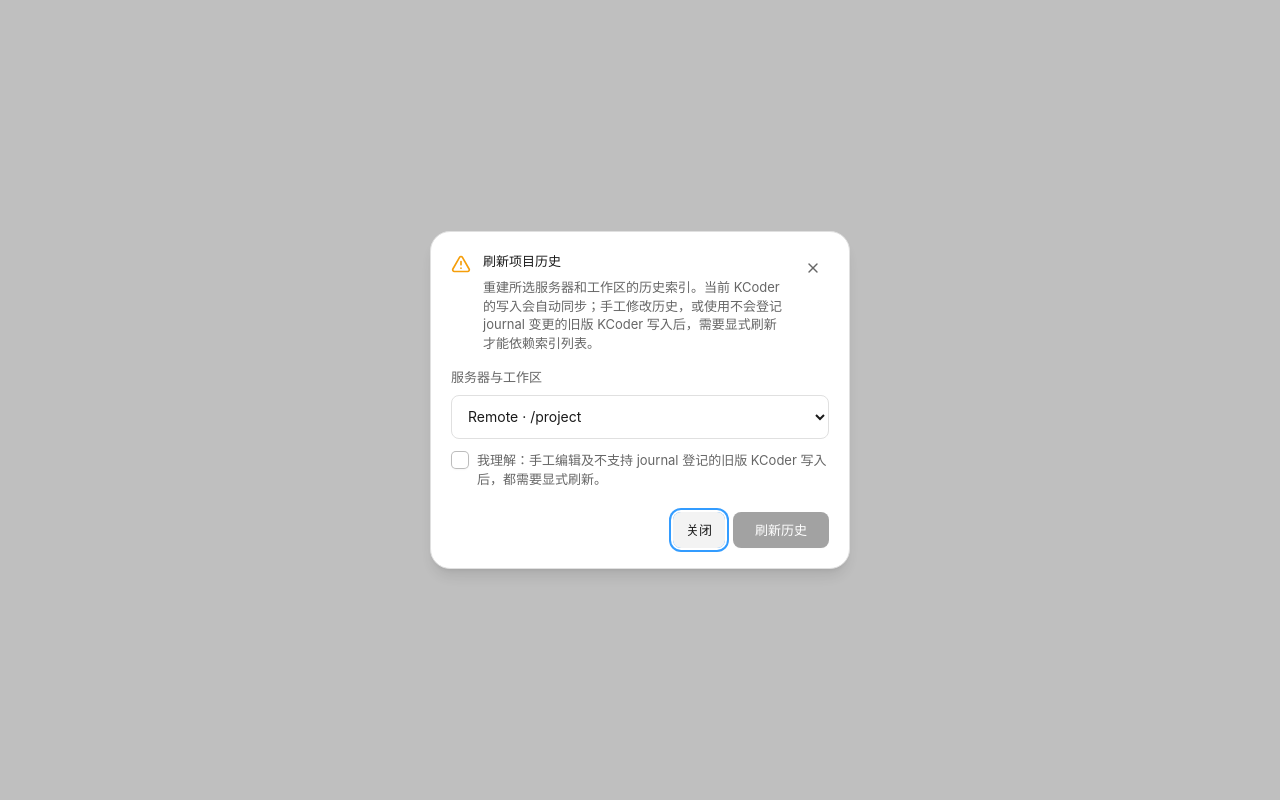
project history confirmation automatically progresses and reloads only after ready
Expected: the button with test id "project-history-refresh-dialog-confirm" is disabled, [733,512,829,548]
Click the checkbox with test id "history-refresh-acknowledge": click(460, 460) [451,451,469,469]
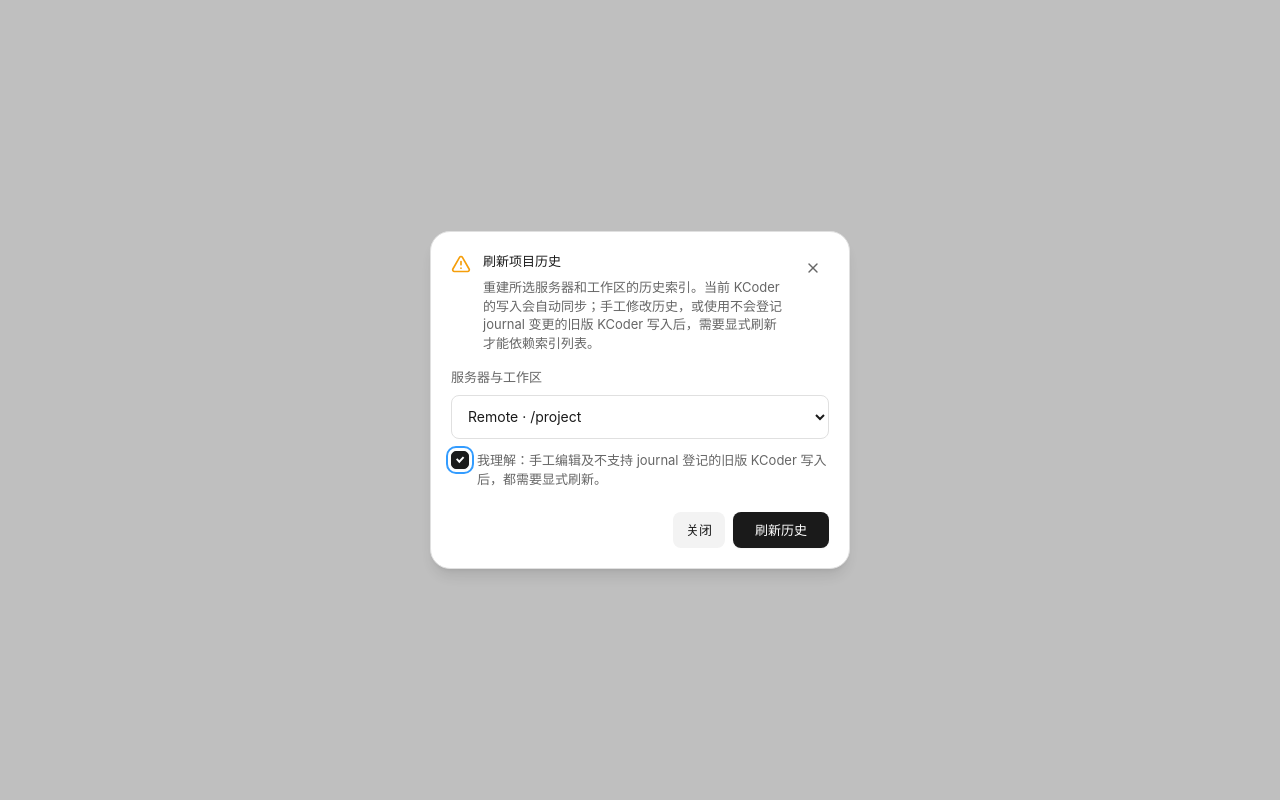
Click the button with test id "project-history-refresh-dialog-confirm": click(781, 530) [733,512,829,548]
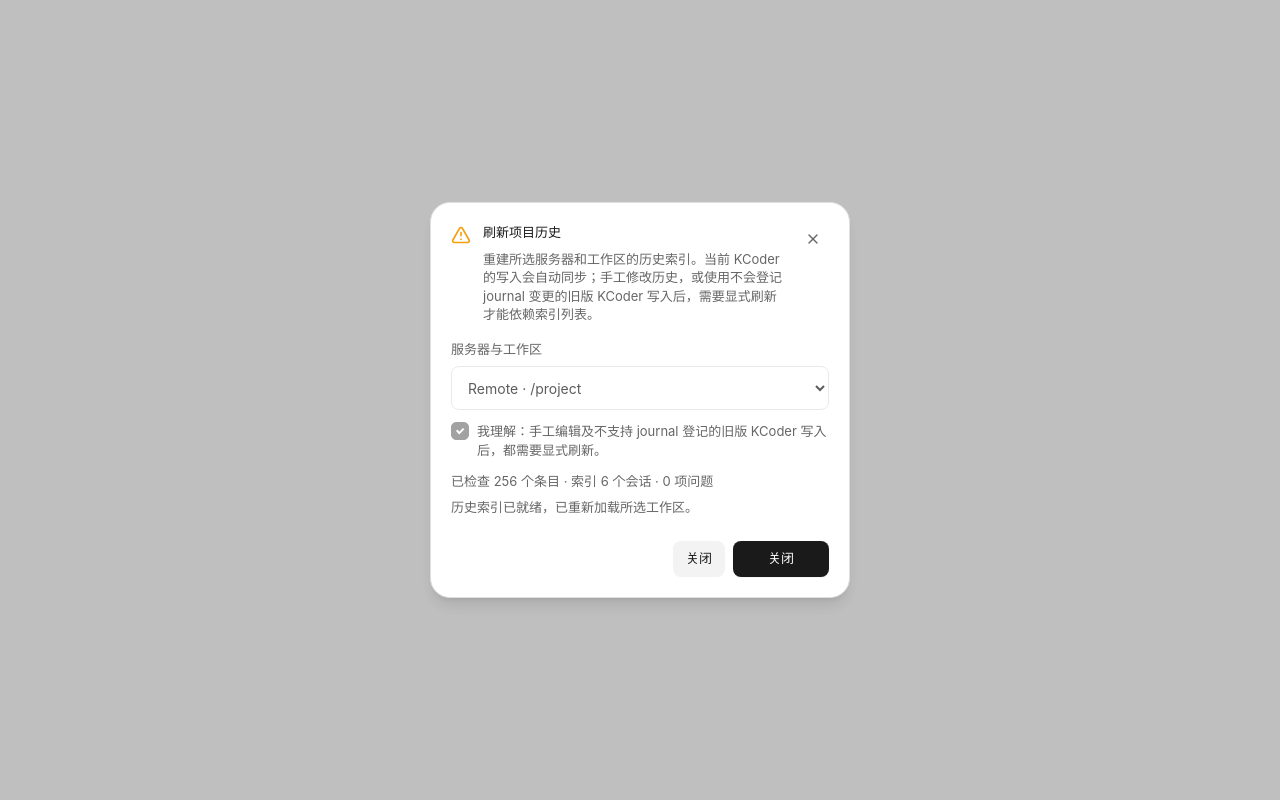
Expected: the message with test id "history-refresh-progress" shows "256", [451,472,713,488]
